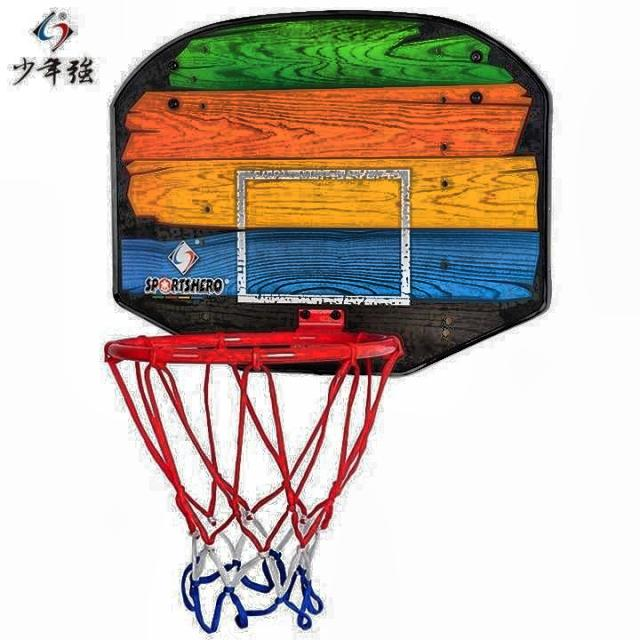rim: (102, 331, 399, 628)
